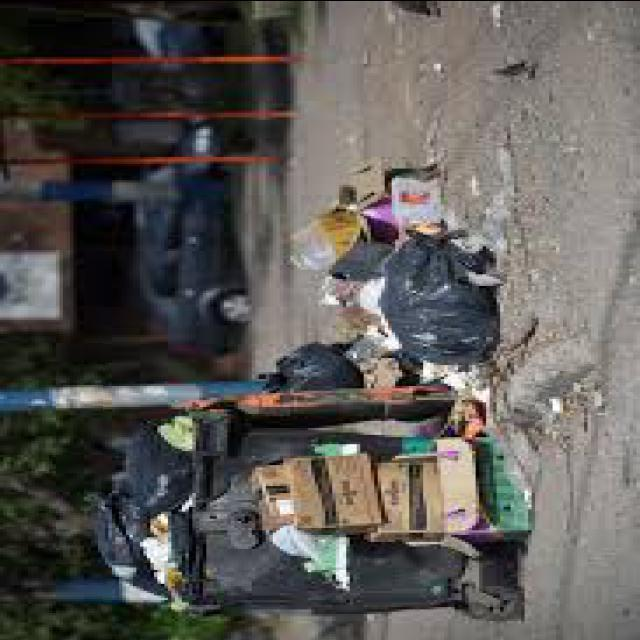Trashbag: (371, 234, 502, 374), (72, 491, 152, 596), (109, 412, 197, 488), (252, 342, 379, 392)
